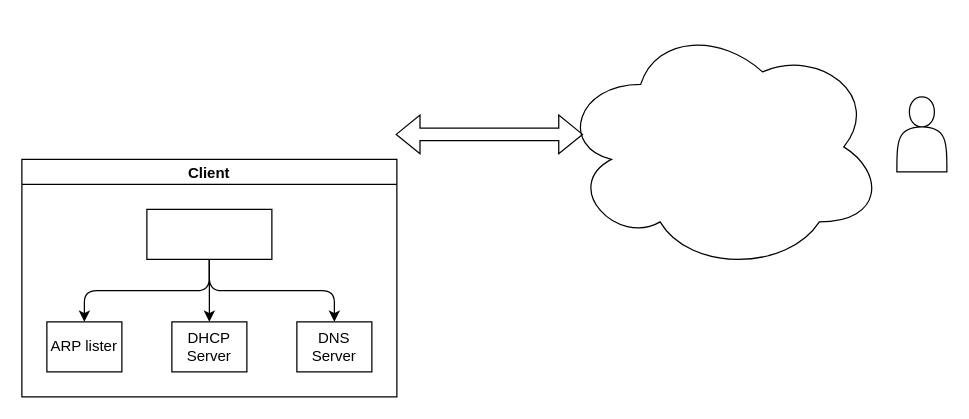
Image size: 969x419. Some labels were removed from this diagram. Each missing label, with the centre of its shape:
"C2 Client asker" belongs at pixel 209 233.
"C2 server" belongs at pixel 721 146.
